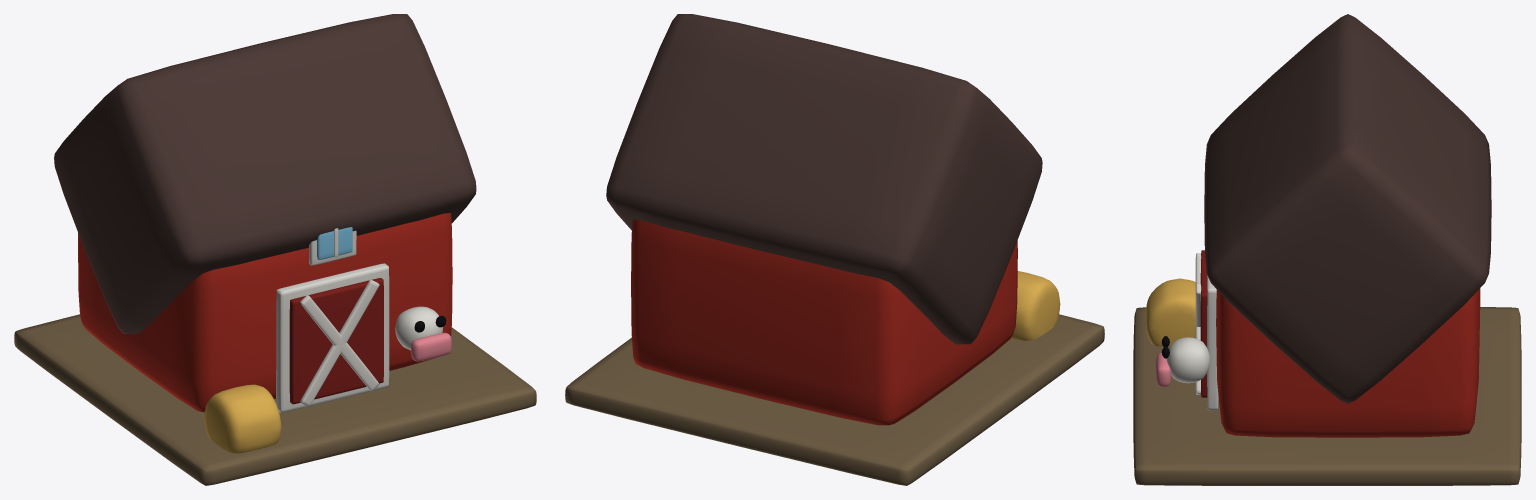
The model's file is Kuhstall.fbx.
3 renders of one model, left to right at view 1: azimuth 30°, elevation 25°; view 2: azimuth 150°, elevation 25°; view 3: azimuth 270°, elevation 25°, orthographic. The views are drawn at different scales.
Visible parts, largest first — view 1: Kuhstall; view 2: Kuhstall; view 3: Kuhstall.
Boxes of the visible parts, left/top/right/bottom form: Kuhstall: left=14, top=14, right=536, bottom=485; Kuhstall: left=565, top=14, right=1104, bottom=485; Kuhstall: left=1133, top=14, right=1521, bottom=485.
Size of the model in its own units: 1.9 by 1.77 by 1.9.
